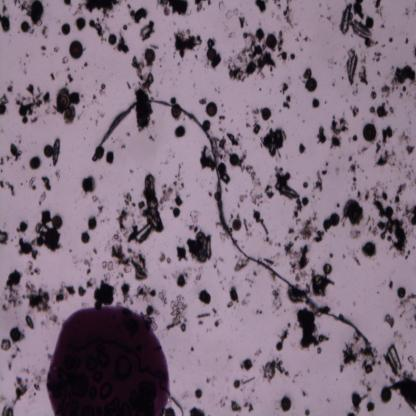Background material: (224, 23, 273, 87), (105, 242, 150, 282), (237, 146, 264, 203), (375, 216, 410, 254), (389, 371, 416, 413), (260, 122, 290, 157), (134, 82, 154, 133), (295, 308, 319, 350), (22, 282, 52, 314), (280, 241, 312, 270), (167, 295, 189, 336), (1, 269, 21, 312), (171, 30, 201, 58), (390, 61, 416, 92), (341, 198, 366, 228), (94, 279, 117, 309), (141, 173, 161, 207), (262, 360, 289, 383), (360, 344, 380, 375), (298, 209, 318, 240), (186, 239, 207, 265), (26, 81, 42, 115), (156, 0, 192, 15), (12, 376, 30, 405), (342, 338, 362, 364), (198, 144, 216, 172), (84, 0, 122, 13), (131, 58, 150, 84), (6, 342, 23, 370), (142, 303, 160, 329), (254, 206, 270, 235), (125, 2, 148, 22), (274, 164, 292, 188), (8, 323, 26, 347), (314, 278, 334, 299), (374, 150, 396, 169), (89, 19, 108, 41), (114, 32, 132, 54), (351, 390, 368, 413), (371, 179, 388, 201), (113, 208, 129, 231), (136, 284, 158, 300), (213, 134, 228, 157), (23, 259, 42, 277), (11, 0, 32, 16), (270, 289, 284, 313), (140, 21, 157, 40), (121, 283, 135, 305), (402, 204, 416, 226), (52, 281, 66, 303), (228, 130, 245, 148), (329, 119, 348, 135), (232, 253, 248, 272), (288, 286, 304, 305), (160, 182, 172, 207), (372, 199, 386, 218), (358, 66, 370, 87), (374, 1, 386, 22), (285, 0, 293, 30), (9, 145, 23, 162), (399, 292, 416, 306), (312, 169, 322, 192), (198, 289, 212, 305), (63, 108, 77, 124), (367, 214, 377, 236), (34, 370, 44, 392), (293, 198, 303, 219), (382, 125, 393, 144), (158, 289, 170, 306), (0, 16, 11, 34), (0, 94, 9, 116), (2, 335, 13, 353), (358, 377, 372, 391), (176, 246, 188, 262), (40, 176, 52, 192), (276, 27, 284, 51), (350, 249, 360, 268), (189, 405, 206, 416), (330, 135, 343, 149), (6, 180, 16, 198), (41, 210, 53, 225), (316, 124, 326, 142), (72, 3, 87, 15), (384, 314, 396, 329), (243, 216, 252, 236), (281, 94, 293, 109), (219, 172, 231, 187), (0, 405, 16, 416), (224, 8, 240, 19), (252, 0, 268, 11), (229, 287, 239, 304), (193, 0, 204, 14), (396, 181, 407, 195), (174, 190, 183, 207), (0, 229, 9, 246), (241, 376, 256, 386), (364, 38, 379, 48), (31, 16, 43, 28), (350, 229, 362, 241), (295, 270, 307, 282), (100, 262, 113, 273), (16, 93, 26, 107), (381, 85, 391, 99), (212, 55, 222, 69), (28, 176, 37, 191), (264, 255, 275, 267), (106, 152, 116, 165), (350, 105, 360, 118), (70, 94, 80, 107), (84, 260, 92, 276), (298, 140, 306, 156), (190, 209, 199, 223), (280, 328, 289, 342), (315, 230, 324, 244), (372, 50, 382, 62), (124, 191, 132, 206), (350, 177, 358, 192), (174, 125, 184, 137), (65, 284, 75, 296), (39, 190, 46, 207), (350, 82, 358, 96), (399, 132, 409, 143), (244, 401, 254, 412), (366, 401, 376, 412), (219, 231, 228, 243), (112, 233, 124, 242), (196, 312, 211, 319), (405, 144, 415, 154), (357, 146, 367, 156), (188, 223, 199, 232), (217, 0, 226, 11), (302, 69, 311, 80), (374, 138, 381, 152), (71, 252, 79, 264), (43, 92, 50, 105), (239, 18, 246, 31), (42, 25, 49, 38), (165, 407, 175, 416), (78, 286, 87, 296), (394, 330, 403, 340), (177, 163, 182, 181), (102, 9, 110, 20), (304, 285, 312, 296), (56, 170, 63, 182), (150, 42, 159, 51), (244, 276, 254, 284), (348, 165, 356, 175), (264, 236, 274, 244), (208, 36, 216, 46), (312, 98, 320, 108), (280, 51, 288, 61), (275, 0, 282, 11), (95, 206, 104, 214), (90, 193, 98, 202), (100, 85, 108, 94), (61, 56, 70, 64), (212, 85, 220, 94), (252, 105, 261, 113), (16, 236, 23, 246), (170, 96, 177, 106), (215, 317, 222, 327), (292, 372, 298, 383), (282, 84, 288, 95), (62, 0, 73, 6), (268, 186, 273, 199), (6, 84, 14, 92), (39, 45, 47, 53), (32, 249, 40, 257), (30, 116, 38, 124), (200, 98, 208, 106), (145, 61, 153, 69), (322, 306, 330, 314), (218, 398, 226, 406), (254, 348, 262, 356), (404, 8, 411, 17), (203, 59, 210, 68), (217, 127, 227, 133), (68, 74, 74, 84), (346, 410, 356, 416), (228, 31, 236, 38), (98, 112, 106, 119), (194, 274, 201, 282), (86, 282, 94, 289), (48, 74, 55, 82), (293, 234, 300, 242), (245, 121, 252, 129), (160, 254, 166, 263), (125, 80, 131, 89), (335, 166, 341, 175), (304, 33, 310, 42), (388, 280, 394, 289), (253, 114, 258, 124), (52, 104, 57, 114), (405, 249, 410, 259), (361, 56, 368, 63), (394, 196, 401, 203), (129, 168, 136, 175), (328, 15, 335, 22), (364, 190, 368, 202), (403, 38, 409, 46), (0, 154, 4, 166), (400, 86, 408, 92), (92, 94, 98, 102), (161, 272, 167, 280), (412, 46, 416, 58), (408, 355, 414, 363), (302, 390, 308, 398), (205, 376, 211, 384), (400, 311, 408, 317), (256, 308, 262, 316), (208, 190, 213, 199), (0, 179, 5, 188), (237, 405, 242, 414), (212, 306, 217, 315), (375, 70, 382, 76), (54, 46, 60, 53), (22, 116, 28, 123), (147, 136, 154, 142), (226, 302, 233, 308), (358, 190, 362, 200), (295, 35, 300, 43), (340, 364, 344, 374), (384, 354, 388, 364), (322, 168, 327, 176), (317, 346, 322, 354), (213, 257, 217, 267), (287, 76, 292, 84), (389, 106, 394, 114), (216, 221, 221, 229), (52, 318, 58, 324), (398, 92, 404, 98), (408, 323, 414, 329), (197, 320, 203, 326), (172, 180, 178, 186), (324, 160, 330, 166), (93, 247, 98, 254), (379, 23, 384, 30), (253, 269, 258, 276), (245, 292, 252, 297), (6, 155, 11, 162), (289, 228, 294, 235), (369, 108, 376, 113), (23, 68, 28, 75), (407, 172, 411, 180), (272, 273, 276, 281), (342, 252, 346, 260), (404, 162, 408, 170), (168, 257, 172, 265), (330, 252, 334, 260), (219, 256, 224, 262), (277, 242, 282, 248), (190, 346, 195, 352), (2, 7, 8, 12), (324, 336, 330, 341), (381, 43, 387, 48), (228, 354, 233, 360), (194, 52, 198, 59), (388, 37, 393, 42), (180, 183, 185, 188), (121, 144, 126, 149), (220, 115, 225, 120), (360, 167, 364, 173), (348, 138, 352, 144), (353, 136, 357, 142), (357, 163, 361, 169), (287, 322, 291, 328), (412, 364, 416, 370), (339, 314, 343, 320), (381, 101, 385, 107), (324, 398, 330, 402), (96, 119, 99, 127), (236, 213, 240, 219), (83, 46, 87, 52), (413, 314, 416, 321), (125, 132, 130, 136), (219, 280, 223, 285), (336, 203, 340, 208), (124, 26, 128, 31), (300, 47, 304, 52), (331, 114, 336, 118), (230, 214, 234, 219), (189, 68, 193, 73), (84, 62, 89, 66), (131, 202, 136, 206), (331, 83, 336, 87), (66, 67, 70, 72), (230, 119, 234, 124), (242, 300, 247, 304), (258, 87, 262, 92), (270, 119, 274, 124), (349, 157, 352, 163), (334, 60, 337, 66), (209, 0, 212, 6), (245, 112, 249, 116), (371, 86, 375, 90), (301, 80, 305, 84), (18, 140, 22, 144), (80, 66, 84, 70), (80, 94, 84, 98), (218, 120, 222, 124), (176, 62, 180, 66), (159, 57, 162, 62), (226, 396, 229, 401), (238, 203, 241, 208), (319, 3, 322, 8), (413, 246, 416, 250), (121, 274, 124, 278), (26, 53, 29, 57), (324, 100, 327, 104), (42, 52, 45, 56), (302, 120, 305, 124), (225, 188, 228, 192), (341, 76, 344, 80), (404, 345, 407, 349), (32, 29, 34, 34), (386, 100, 388, 105), (221, 103, 224, 106), (159, 64, 162, 67), (279, 109, 281, 113), (82, 106, 85, 108), (297, 113, 299, 116), (74, 70, 76, 72)
Cellulose filter fibre: (137, 202, 144, 210)
Cotton: (92, 96, 371, 356)
Diatom: (386, 344, 402, 375), (350, 20, 373, 38), (148, 205, 163, 231), (276, 183, 300, 199), (347, 53, 359, 84), (340, 3, 352, 33), (134, 224, 152, 242), (45, 228, 60, 246), (68, 40, 83, 58), (362, 124, 377, 141), (204, 236, 214, 260), (31, 0, 44, 17), (57, 92, 69, 110), (52, 139, 60, 166), (280, 396, 292, 412), (82, 177, 94, 192), (382, 386, 392, 404), (51, 215, 63, 230), (364, 242, 376, 256), (144, 48, 155, 63), (43, 143, 53, 159), (305, 79, 318, 91), (21, 241, 32, 255), (29, 156, 40, 170), (266, 34, 277, 48), (176, 274, 186, 289), (206, 102, 216, 117), (206, 47, 217, 60), (75, 17, 86, 30), (312, 274, 322, 288), (171, 104, 181, 118), (24, 315, 34, 329), (95, 145, 105, 158), (196, 230, 206, 243), (229, 153, 239, 166), (61, 22, 71, 35), (330, 213, 340, 226), (261, 107, 271, 120), (87, 218, 97, 230), (232, 219, 242, 231), (80, 232, 90, 243), (20, 21, 30, 32), (385, 205, 394, 217), (323, 263, 332, 275), (217, 162, 226, 174), (18, 106, 28, 116), (376, 107, 386, 117), (34, 223, 44, 233), (352, 3, 362, 13), (202, 119, 211, 130), (244, 358, 252, 370), (366, 17, 374, 29), (398, 287, 406, 298), (323, 219, 331, 230), (194, 389, 202, 400), (172, 208, 180, 218), (109, 34, 117, 44), (276, 342, 284, 352), (19, 221, 27, 231), (230, 401, 238, 410), (148, 72, 154, 84), (38, 236, 44, 247), (214, 192, 222, 200), (233, 380, 241, 388), (254, 124, 260, 134), (302, 197, 309, 205), (164, 8, 170, 16), (304, 408, 310, 416), (318, 335, 324, 343), (371, 91, 376, 99), (303, 181, 308, 188), (387, 236, 392, 242), (291, 53, 295, 60)
Pen: (45, 307, 172, 416)
